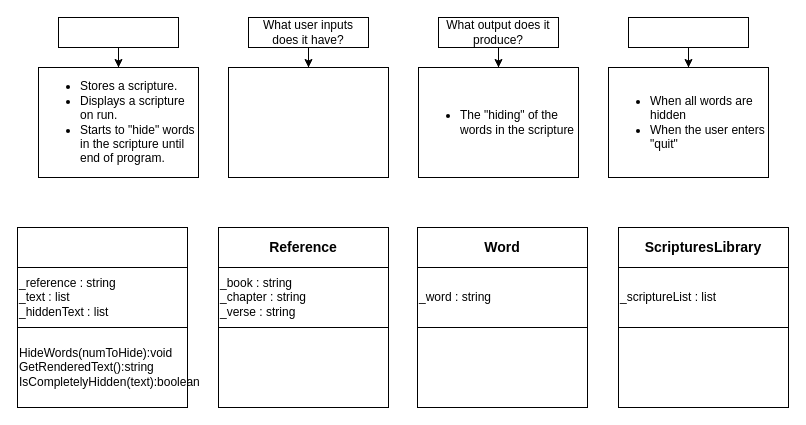
This 806x425 diagram has some shape labels left out. The centre of each missing label's shape, as x and y in pixels:
GetScripture():string, string: point 703,367
Hide():void Show():void IsHidden():boolean GetRenderedText():string: point 502,367
How does the program end?: point 688,32
Scripture: point 102,247
Show():void: point 303,367
The enter key the typed word "quit": point 308,122
What does the program do?: point 118,32
